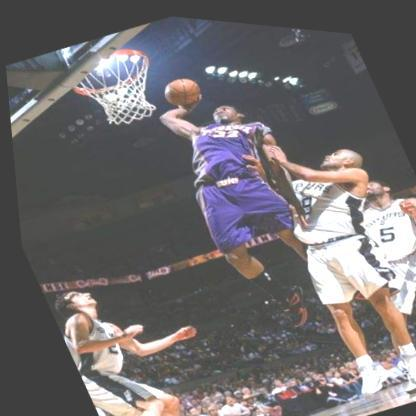basketball: (155, 68, 205, 109)
rim: (58, 34, 172, 137)
